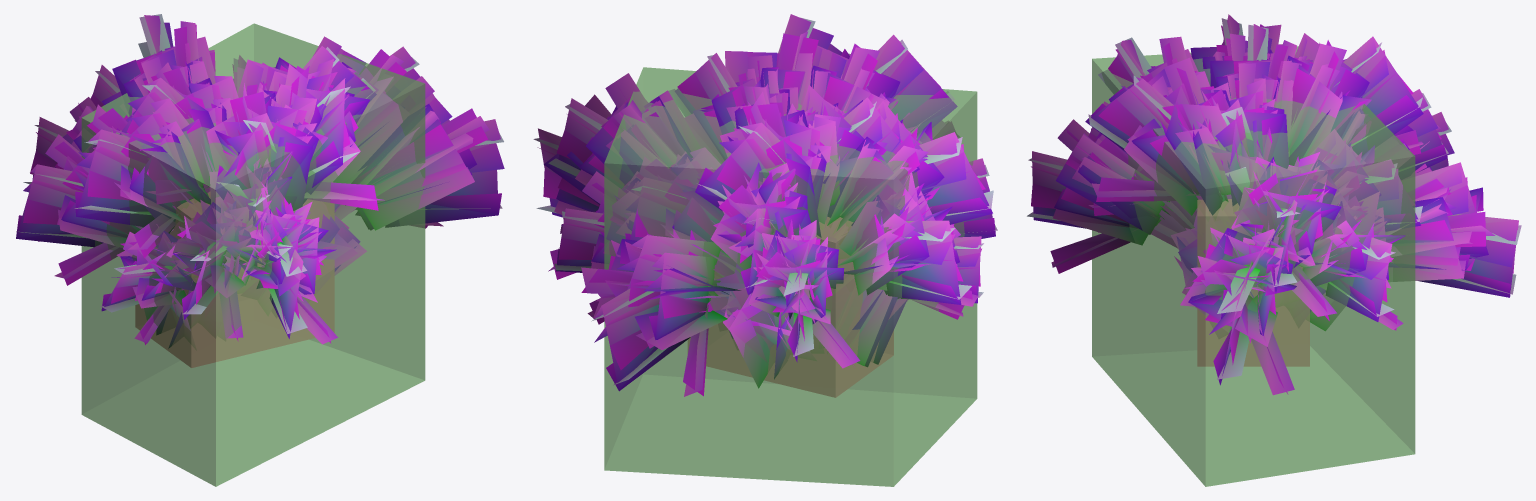
Rendered from tall_plant_bush.dae.
The picture shows the model from 3 angles, left to right: view 1: azimuth 30°, elevation 25°; view 2: azimuth 150°, elevation 25°; view 3: azimuth 270°, elevation 25°; orthographic projection. The views are drawn at different scales.
Parts seen in each view (by area): view 1: Colmesh-1, tall_plant_bush_a1500, tall_plant_bush_a320; view 2: Colmesh-1, tall_plant_bush_a320, tall_plant_bush_a1500; view 3: Colmesh-1, tall_plant_bush_a1500, tall_plant_bush_a320.
Part boxes in pixels (x1,y1,x2,y2): Colmesh-1: (81,23,425,486); tall_plant_bush_a1500: (16,15,504,348); tall_plant_bush_a320: (16,14,503,344); Colmesh-1: (604,67,977,486); tall_plant_bush_a320: (533,15,997,396); tall_plant_bush_a1500: (537,14,995,390); Colmesh-1: (1092,46,1415,486); tall_plant_bush_a1500: (1031,14,1518,385); tall_plant_bush_a320: (1027,14,1521,395).
Size of the model in its own units: 9.87 by 9.39 by 7.5.
